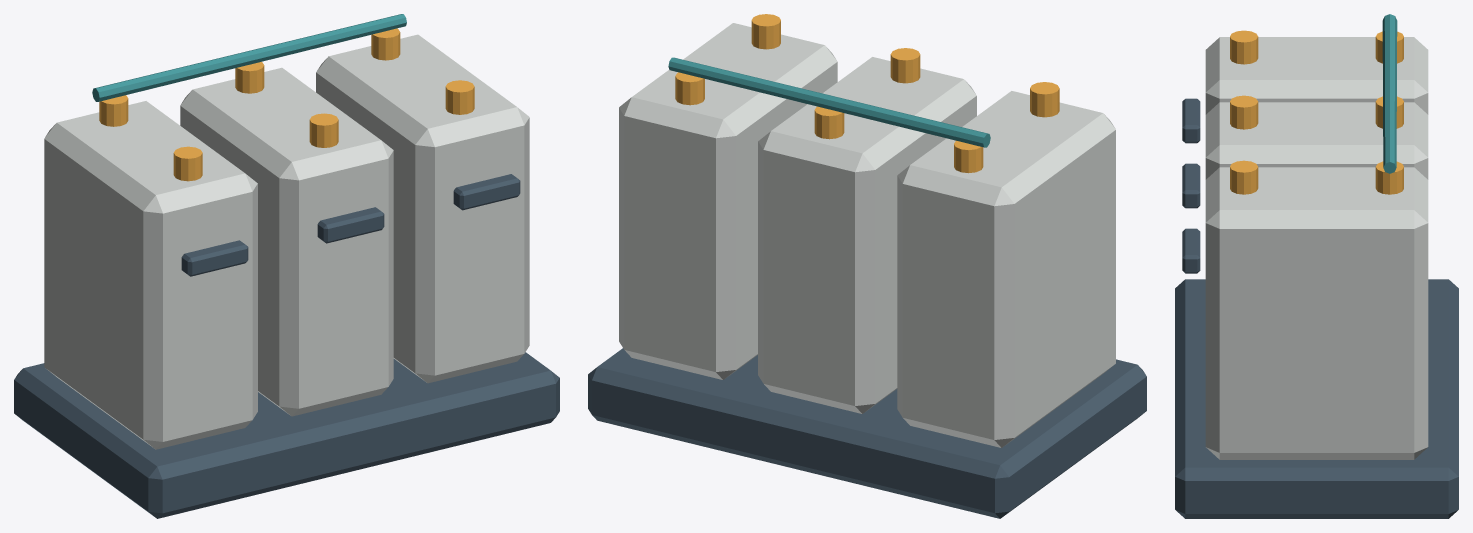
The picture shows the model from 3 angles, left to right: view 1: azimuth 30°, elevation 25°; view 2: azimuth 150°, elevation 25°; view 3: azimuth 270°, elevation 25°; orthographic projection. The views are drawn at different scales.
Visible parts, largest first — view 1: ME-021 Replaceable surface battery skid batched; view 2: ME-021 Replaceable surface battery skid batched; view 3: ME-021 Replaceable surface battery skid batched.
Boxes of the visible parts, <box> form: ME-021 Replaceable surface battery skid batched: <box>14,14,559,518</box>; ME-021 Replaceable surface battery skid batched: <box>588,14,1146,518</box>; ME-021 Replaceable surface battery skid batched: <box>1175,14,1458,518</box>.
Bounding box in the file's own units: 1.15 × 0.918 × 0.7.
